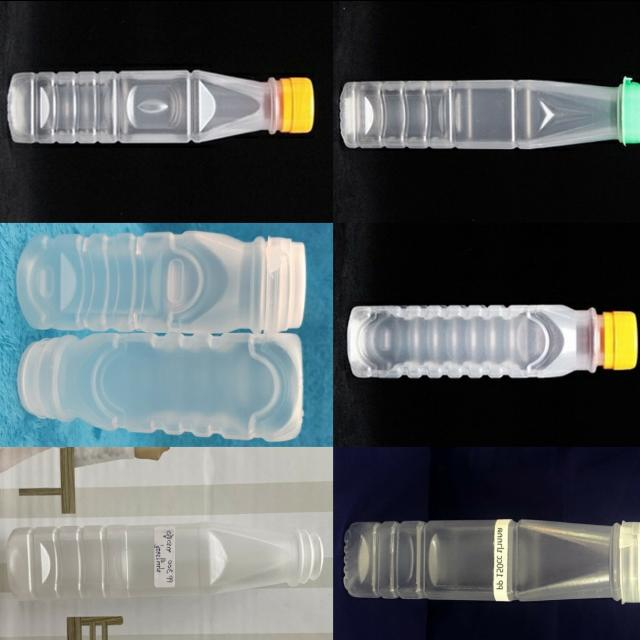plastik: (18, 333, 303, 440), (17, 230, 307, 333), (343, 518, 640, 602), (8, 522, 324, 599), (8, 69, 314, 142), (340, 77, 640, 148), (347, 304, 637, 377)
